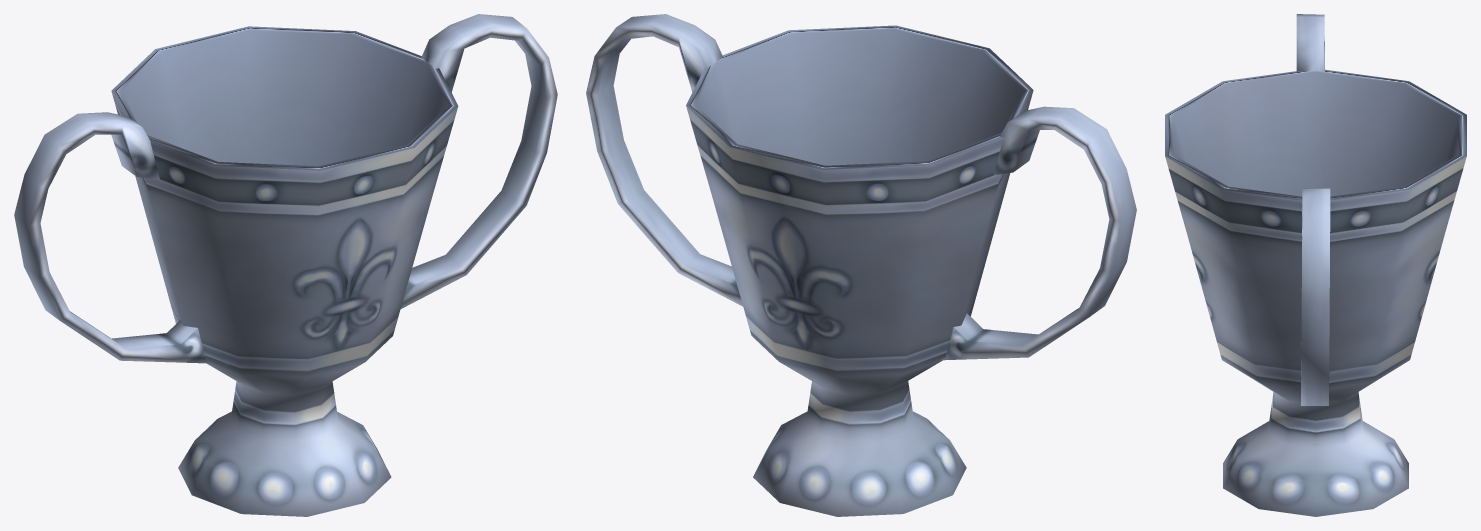
The model's file is cup_04.fbx.
3 views of the same model, side by side, from view 1: azimuth 30°, elevation 25°; view 2: azimuth 150°, elevation 25°; view 3: azimuth 270°, elevation 25° (orthographic). The views are drawn at different scales.
Parts seen in each view (by area): view 1: cup_04; view 2: cup_04; view 3: cup_04.
Part boxes in pixels (x1,y1,x2,y2): cup_04: [14, 14, 557, 516]; cup_04: [586, 14, 1136, 516]; cup_04: [1165, 14, 1466, 516].
Bounding box in the file's own units: 27.88 × 20.3 × 15.06.
